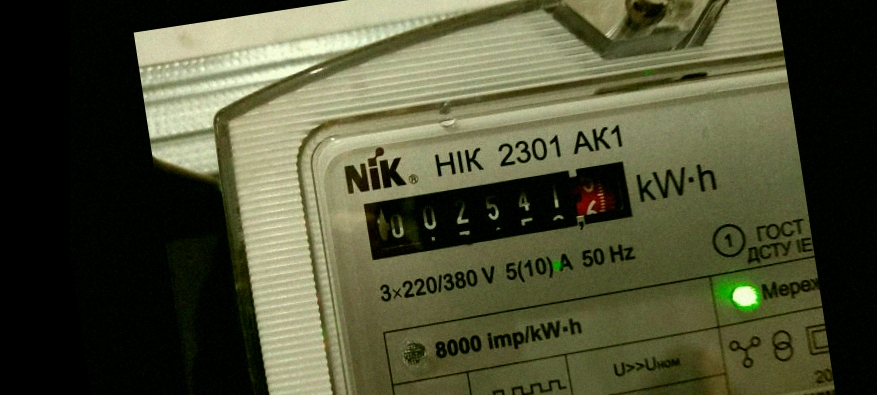0: (417, 197, 441, 232), (387, 208, 408, 239)
1: (543, 175, 564, 210)
2: (447, 191, 473, 228)
4: (513, 181, 534, 214)
5: (481, 189, 502, 223)
6: (581, 194, 600, 217)
screen: (346, 142, 656, 276)
